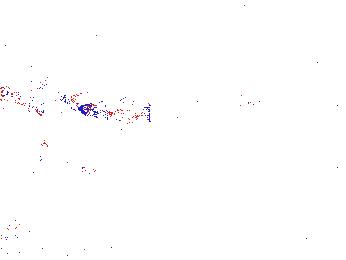red belly glassfish: (79, 160, 119, 178), (37, 138, 49, 160)
redtail glassfish: (1, 79, 83, 115), (82, 96, 154, 129), (186, 89, 271, 116), (169, 105, 235, 130)
